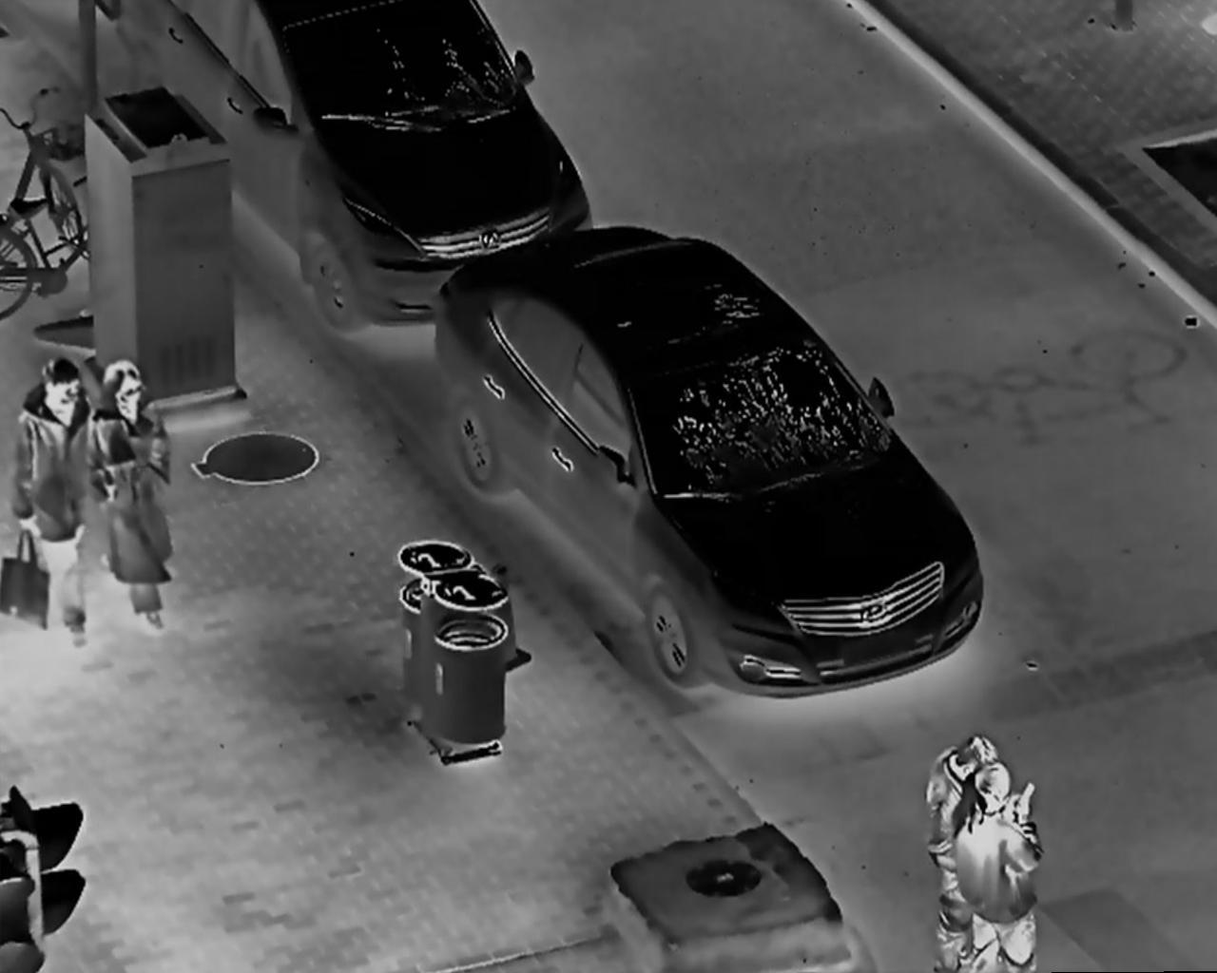person: (84, 358, 175, 636), (954, 762, 1046, 973), (923, 734, 998, 973)
